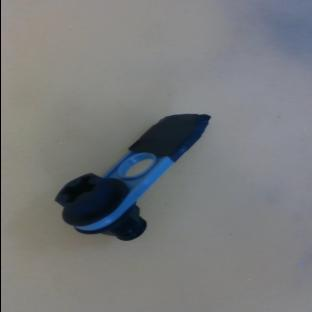part_1_bad: (46, 89, 240, 266)
